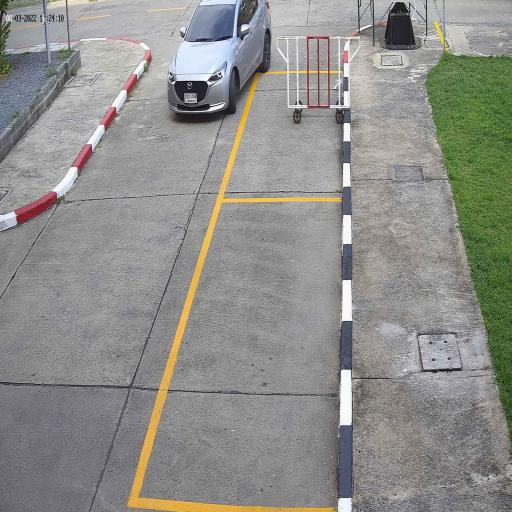car: (167, 0, 273, 116)
